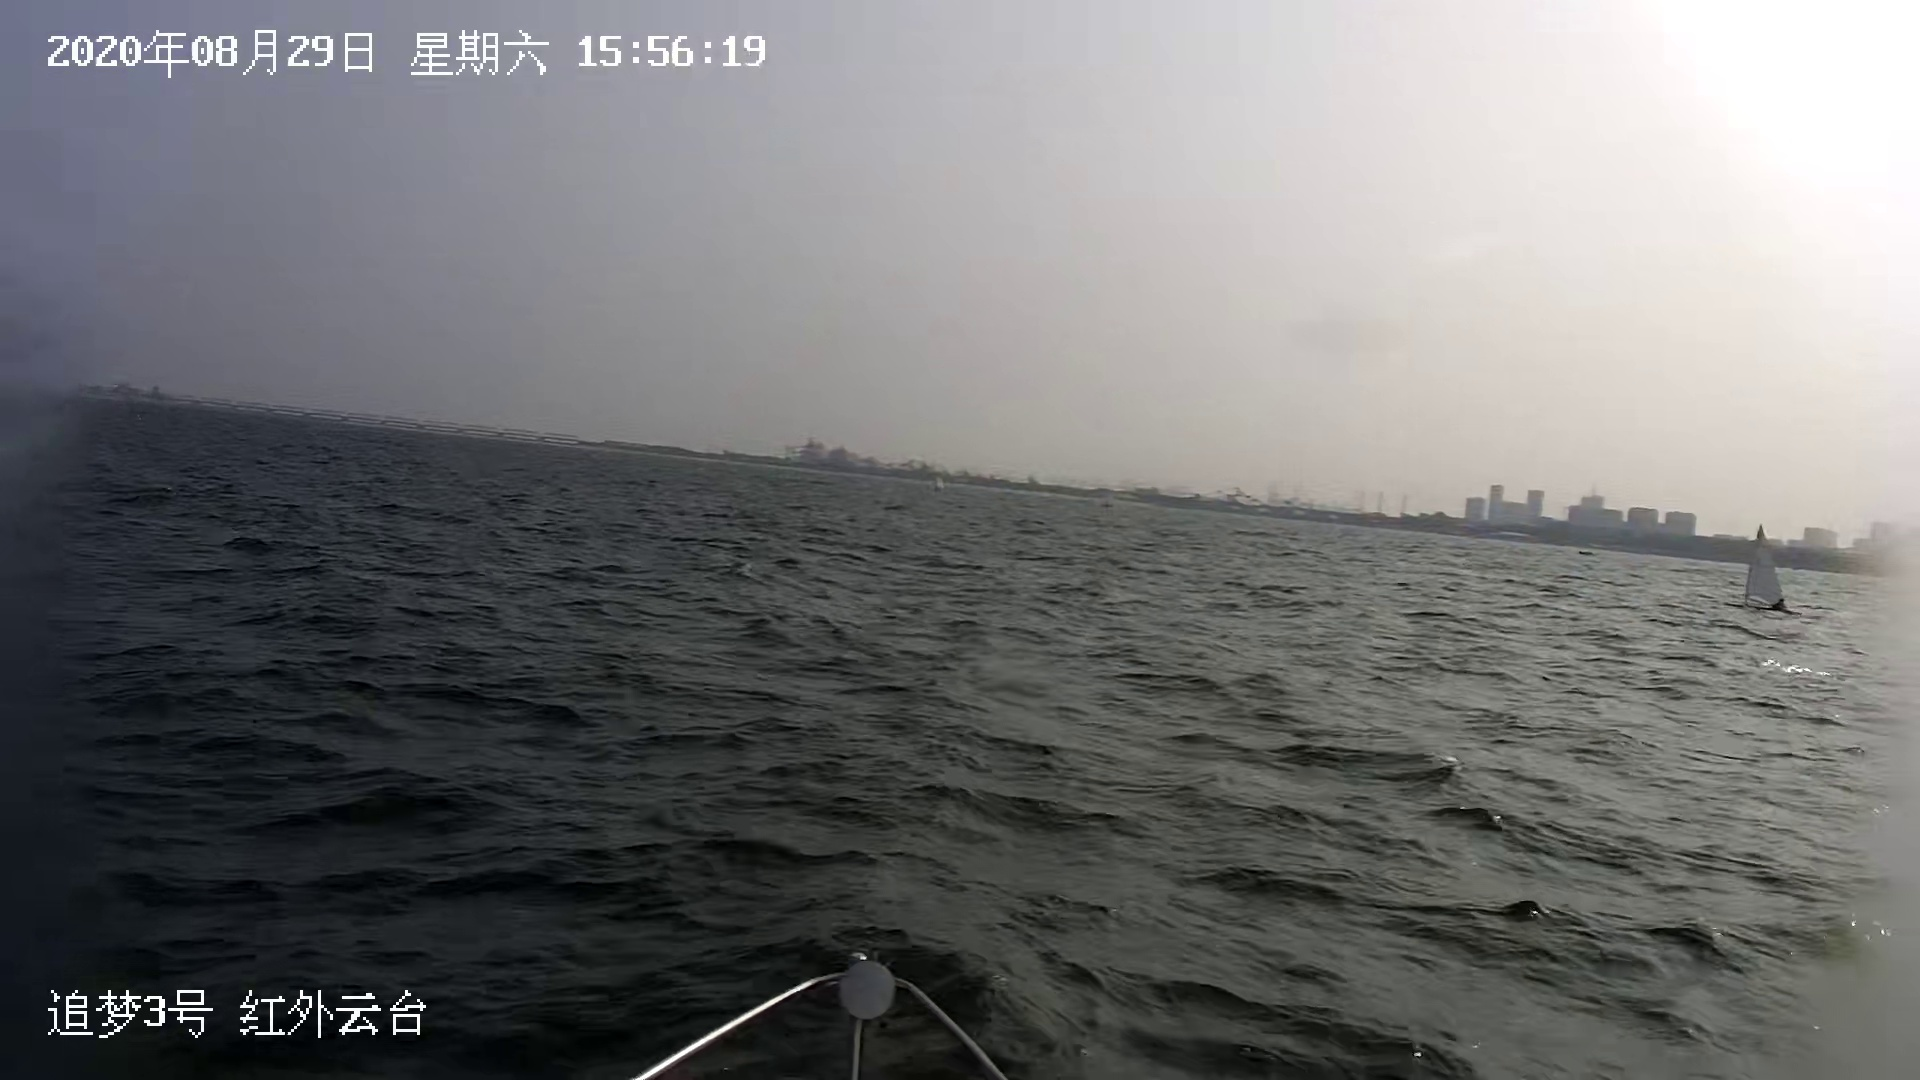barrier: (1741, 524, 1793, 611)
coast: (73, 376, 1912, 578)
